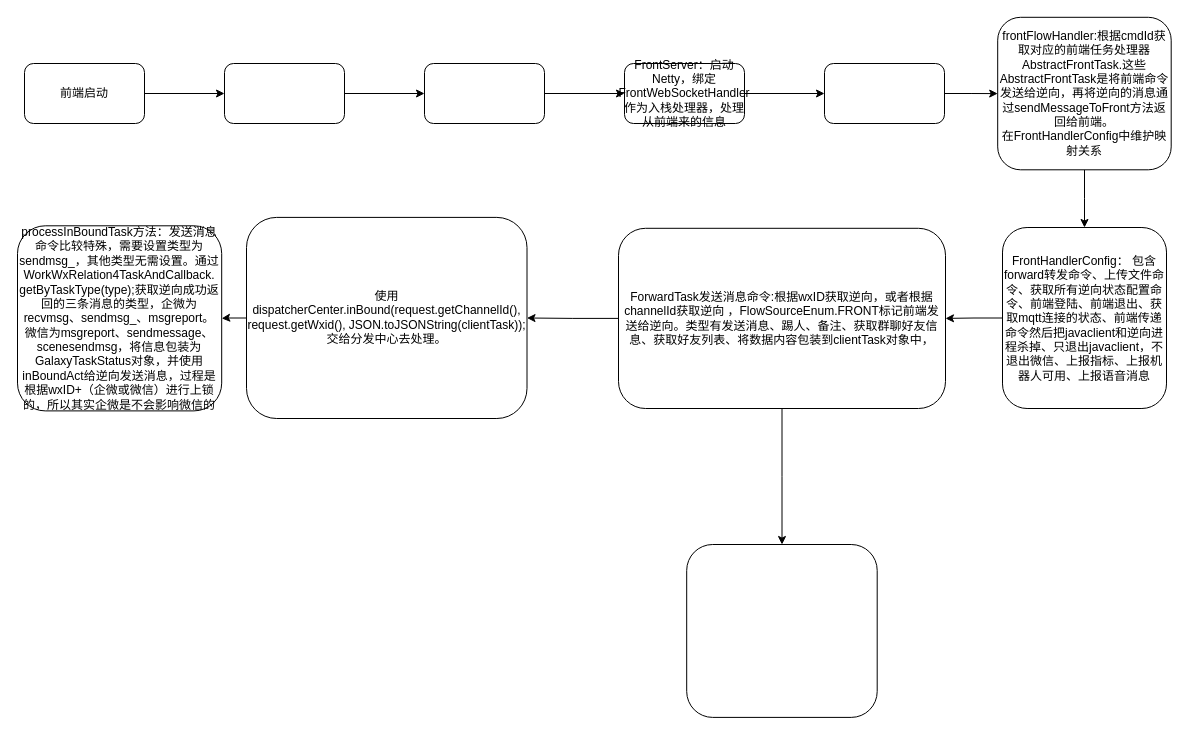
Image size: 1189x736. Some labels were removed from this diagram. The shapes that lost their labels are listed below. From the top down, each one's centre as x and y in pixels, then its label:
At point (284, 93): "FrontStart: 实现ApplicationRunner接口，自身被spring管理".
At point (484, 93): "FrontFlowHandler: 交给其初始化Netty，前端数据流向处理器，包含inBound和outBound方法".
At point (884, 93): "FrontFlowHandler处理业务请求，handHttpRequest方法处理http握手请求".
At point (781, 630): "以发送消息中的文件为例，建立了一个url和文件的缓存池url2PathCache，".
